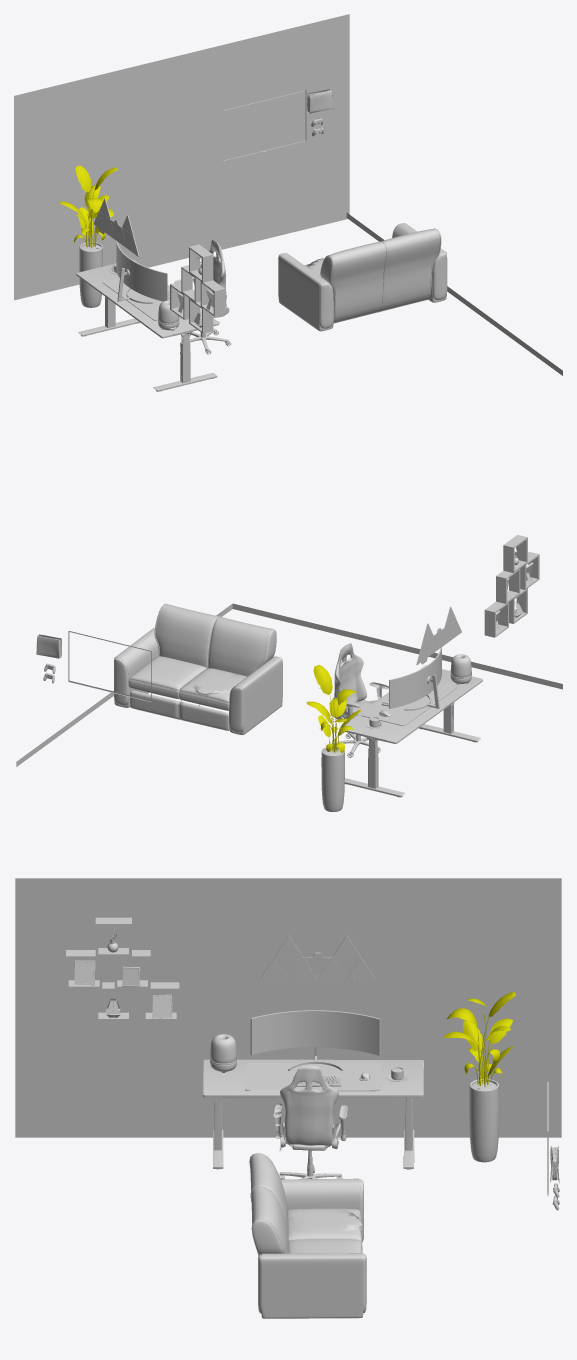
File: offce16-transformed.glb
3 renders of one model, top to bottom at view 1: azimuth 30°, elevation 25°; view 2: azimuth 150°, elevation 25°; view 3: azimuth 270°, elevation 25°, orthographic. The views are drawn at different scales.
Parts seen in each view (by area): view 1: Floor, White shelf, Object_10, plant.001; view 2: Object_10, White shelf, Floor, plant.001; view 3: Floor, White shelf, Object_10, plant.001.
Part boxes in pixels (bbox=[...]): Floor: bbox=[14, 14, 562, 375]; White shelf: bbox=[76, 89, 332, 391]; Object_10: bbox=[278, 223, 447, 331]; plant.001: bbox=[60, 165, 117, 248]; Object_10: bbox=[114, 603, 282, 734]; White shelf: bbox=[36, 534, 539, 811]; Floor: bbox=[16, 603, 562, 766]; plant.001: bbox=[306, 664, 361, 753]; Floor: bbox=[15, 878, 561, 1137]; White shelf: bbox=[66, 917, 559, 1210]; Object_10: bbox=[249, 1153, 366, 1318]; plant.001: bbox=[444, 992, 515, 1087].
Size of the model in its own units: 32.27 by 18.94 by 36.1.
